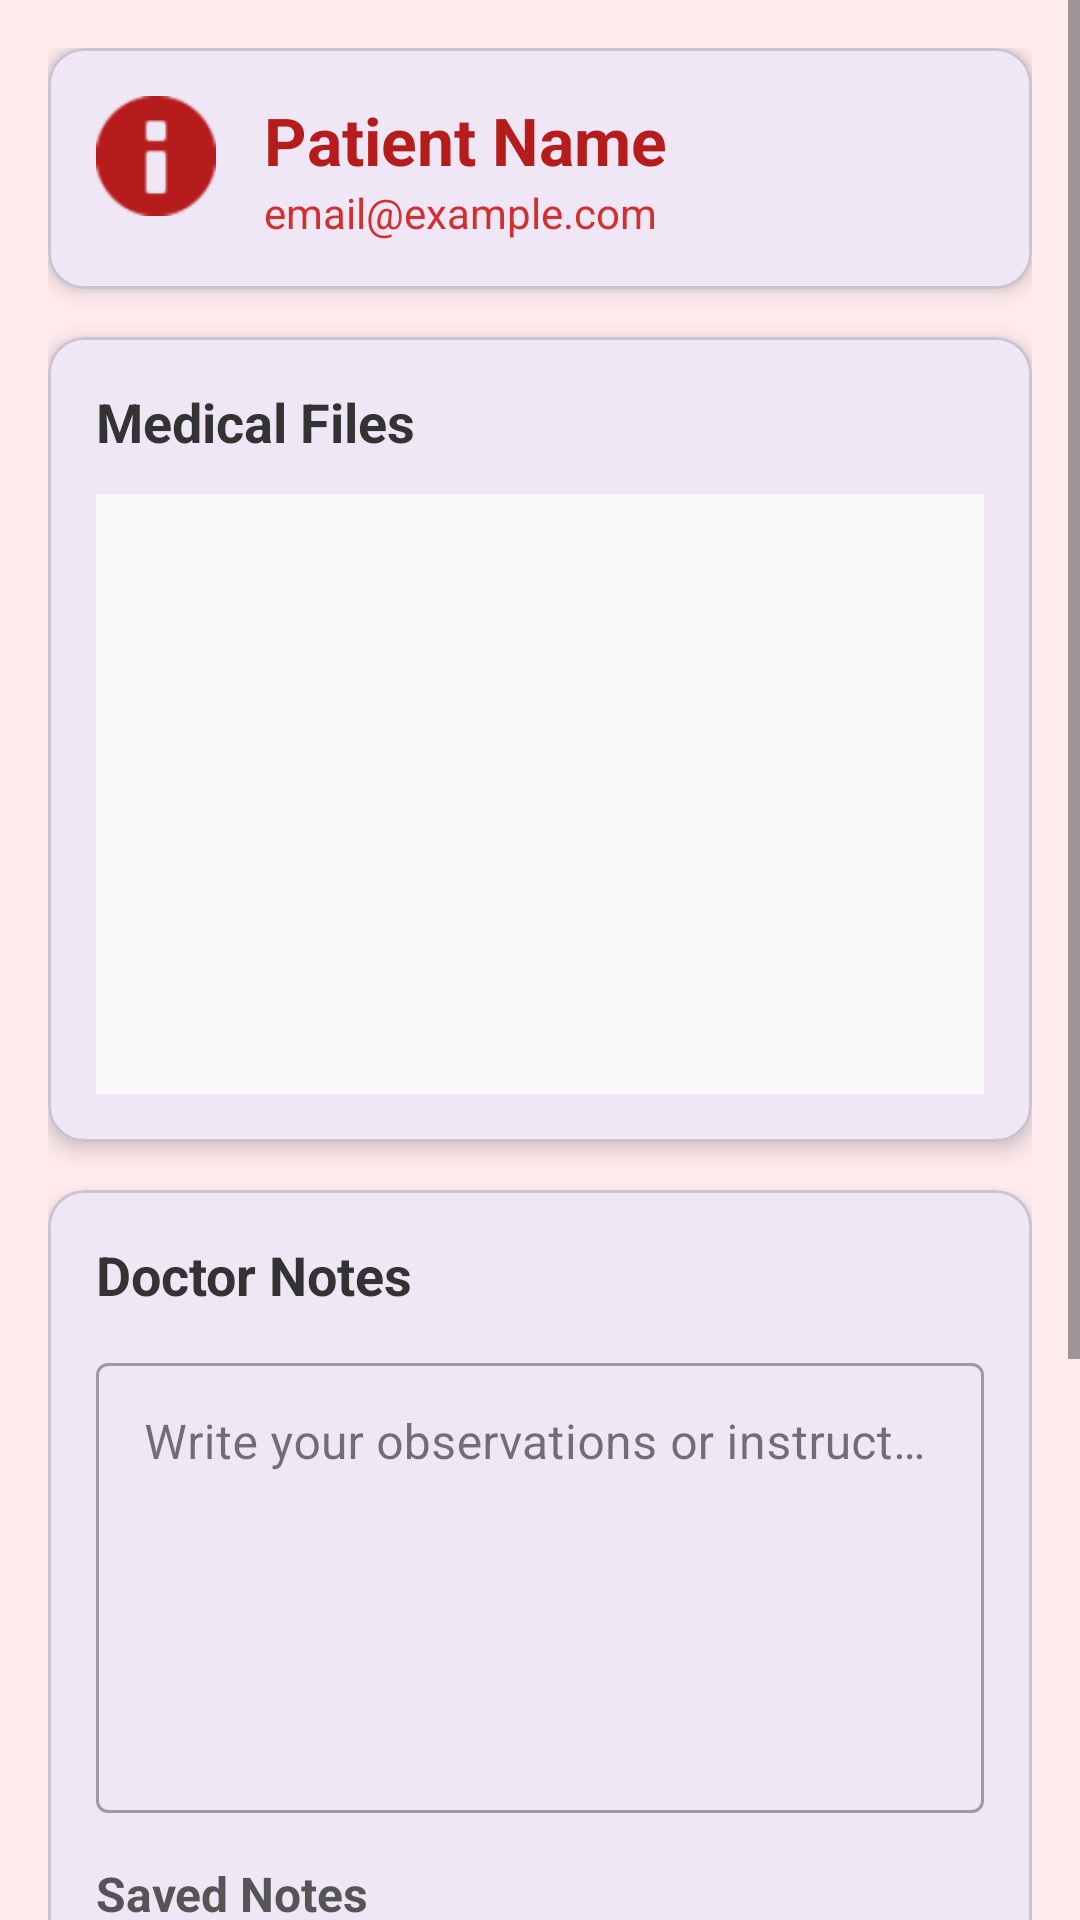

Screen size 1080×1920. Icon name, then its box in pixels as (x1, y1, x2, y2):
info: (96, 96, 216, 216)
